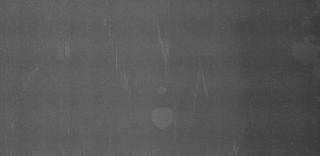silk spot: (147, 86, 185, 132), (188, 67, 218, 107), (153, 28, 180, 64), (53, 34, 71, 58), (98, 14, 114, 32), (115, 58, 129, 78)
